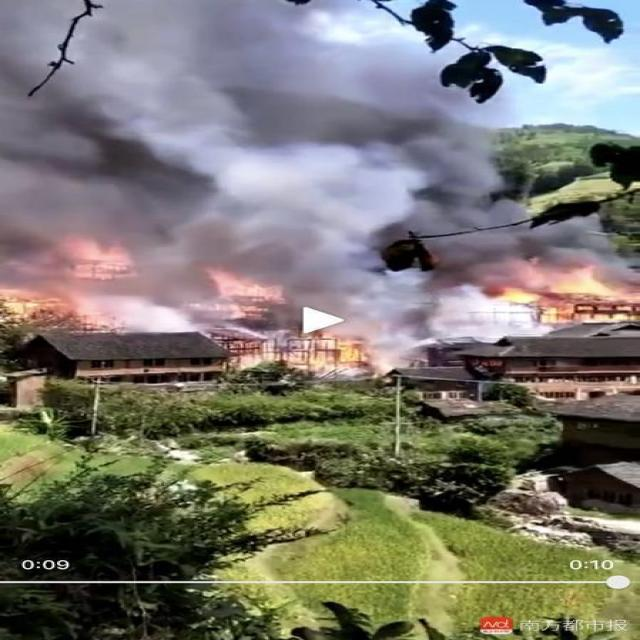fire: (466, 261, 624, 330), (293, 331, 415, 381), (36, 232, 137, 276), (196, 270, 294, 302), (5, 280, 63, 325)
smoke: (12, 8, 400, 276), (302, 50, 550, 265), (538, 204, 624, 262)
